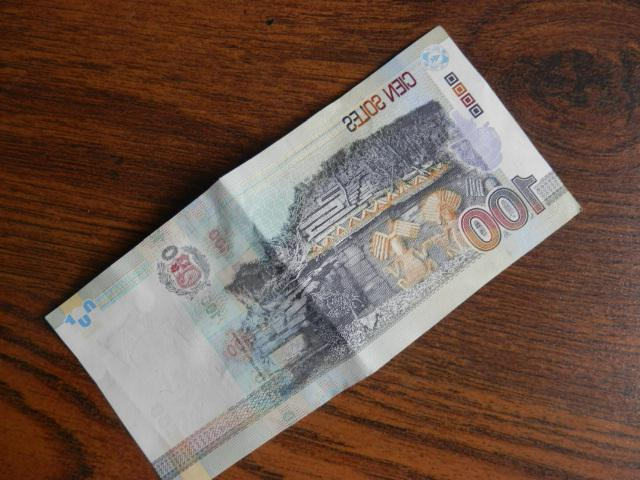B100: (45, 25, 582, 480)
